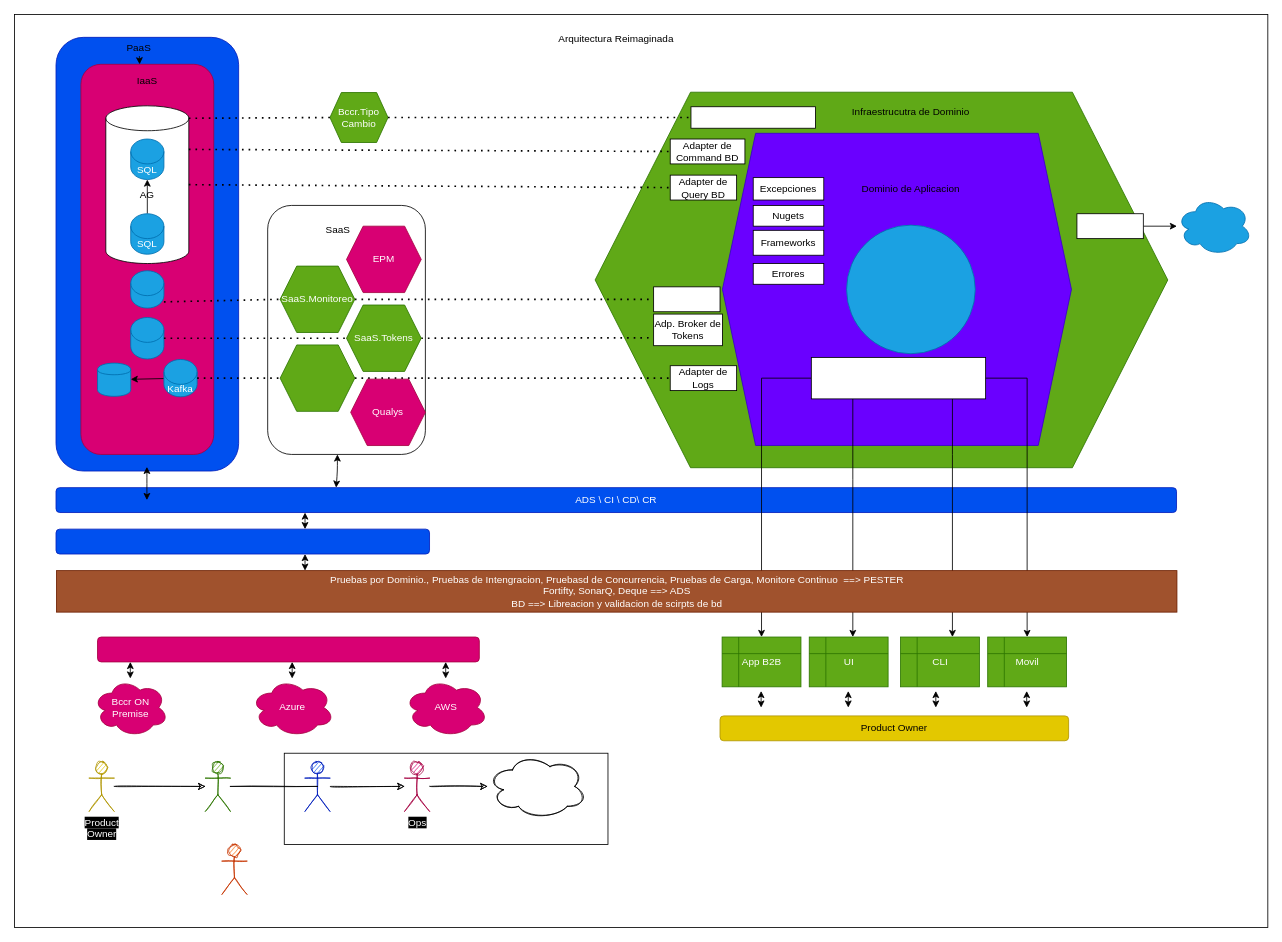
This 1282x942 diagram has some shape labels left out. Here are the shapes that lost their labels. From the top down, the centre of each, then its label:
(x=752, y=117): Adapter de Tipo de Cambio
(x=1109, y=226): Adapter de VISA
(x=147, y=289): Prometeus
(x=686, y=299): Adapter de Monitoreo
(x=910, y=289): Modelo de Dominio
(x=147, y=338): OAutho
(x=114, y=379): Elastic
(x=317, y=377): SaaS.Bitacora
(x=898, y=378): Adapter Restful
(x=242, y=541): Bccr.Actions
(x=288, y=649): VRO\Salt Stack
(x=217, y=786): Project Manager
(x=317, y=786): SRE
(x=537, y=786): Cloud Services On Premise
(x=234, y=869): QA
